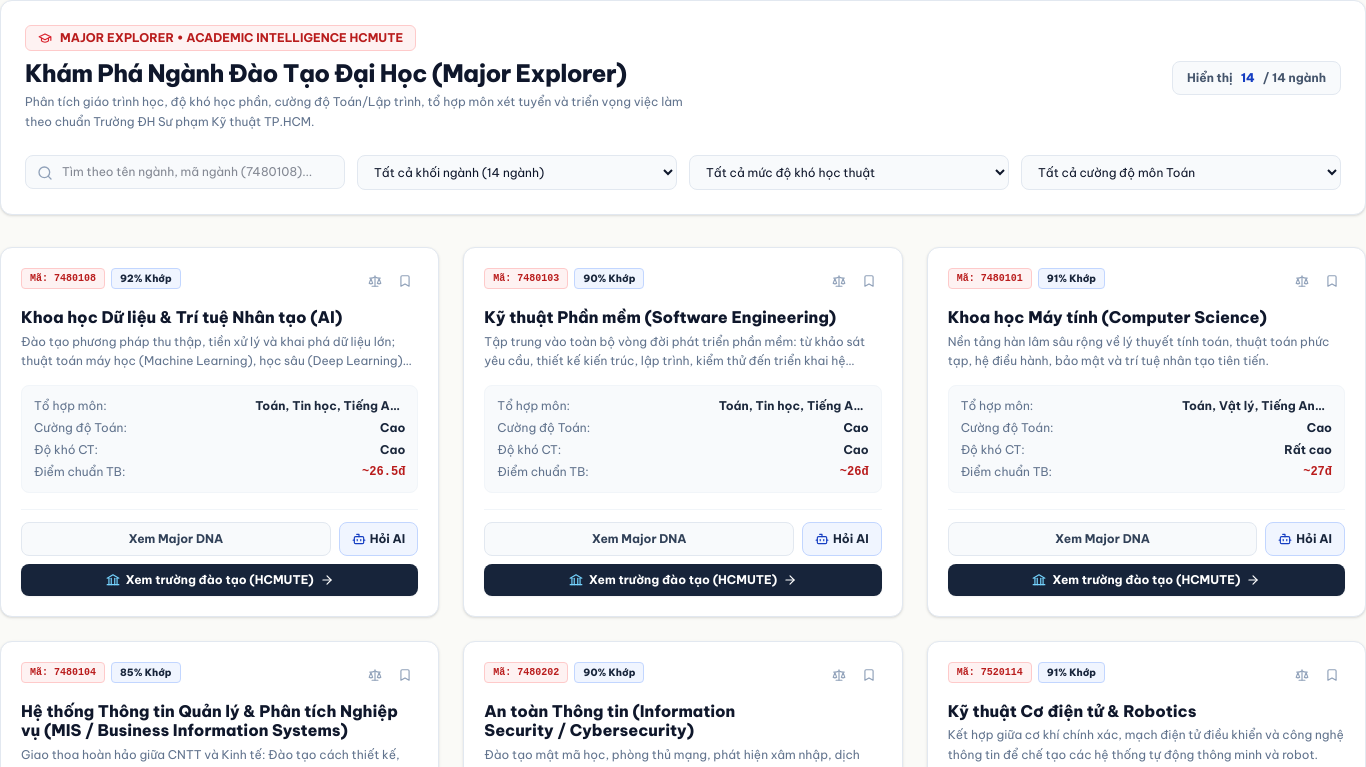
Test: MODULE PROMPT 05 — CAREER & MAJOR EXPLORER › B. MAJOR EXPLORER › 6. Major Detail Modal: renders Major DNA, WHY THIS FITS YOU, and WHAT MAY CHALLENGE YOU
What coordinates should you click on to do the following:
click the button "Xem Major DNA" below "Khoa học Dữ liệu & Trí tuệ Nhân tạo (AI)"
I would click on:
 (176, 539)
Its box is [21, 522, 331, 556].
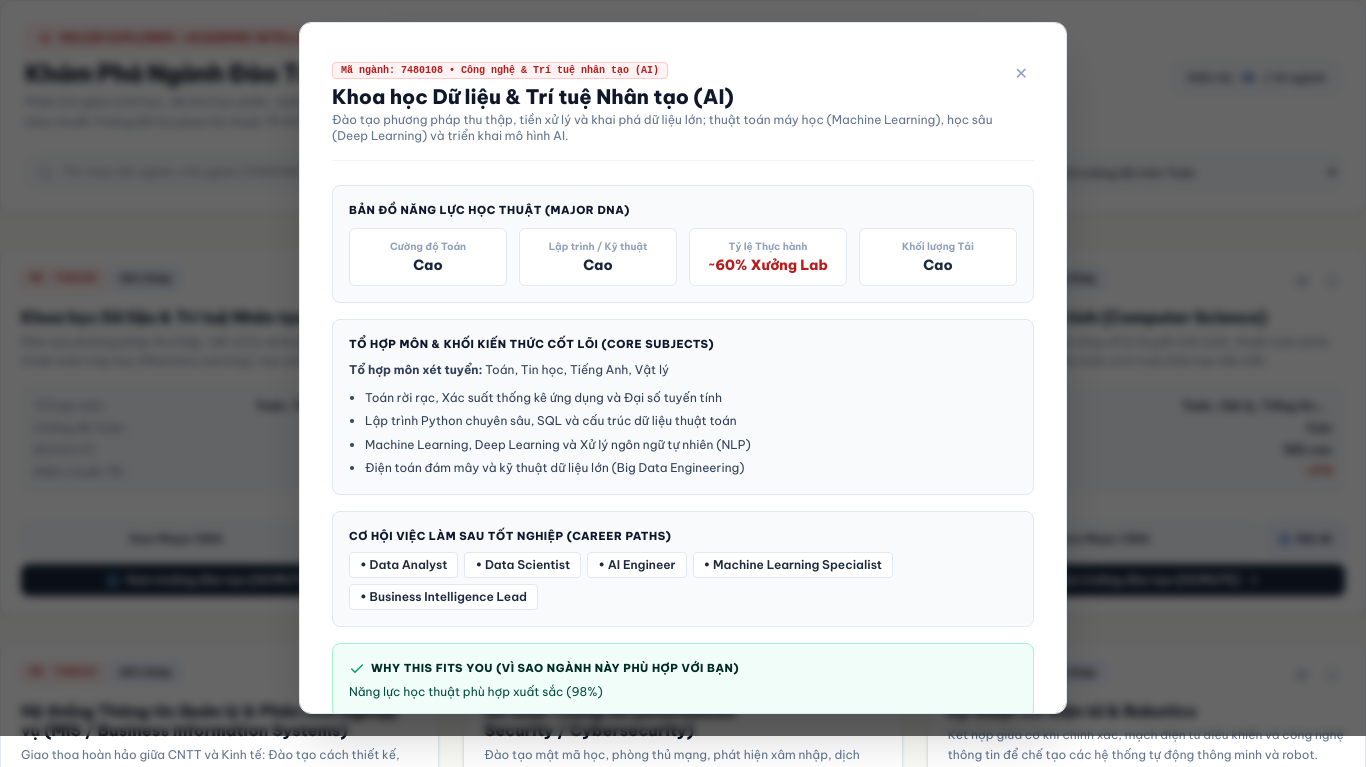
Now the dialog is shown
Now the text "Bản Đồ Năng Lực Học Thuật (Major DNA)" is shown, box [349, 203, 630, 217]
Now the text "Cường độ Toán" is shown, box [390, 240, 466, 253]
Note: Close modal
What coordinates should you click on to do the following:
click the button named "Đóng"
I would click on:
 (1021, 73)
Its box is [1009, 55, 1034, 91].
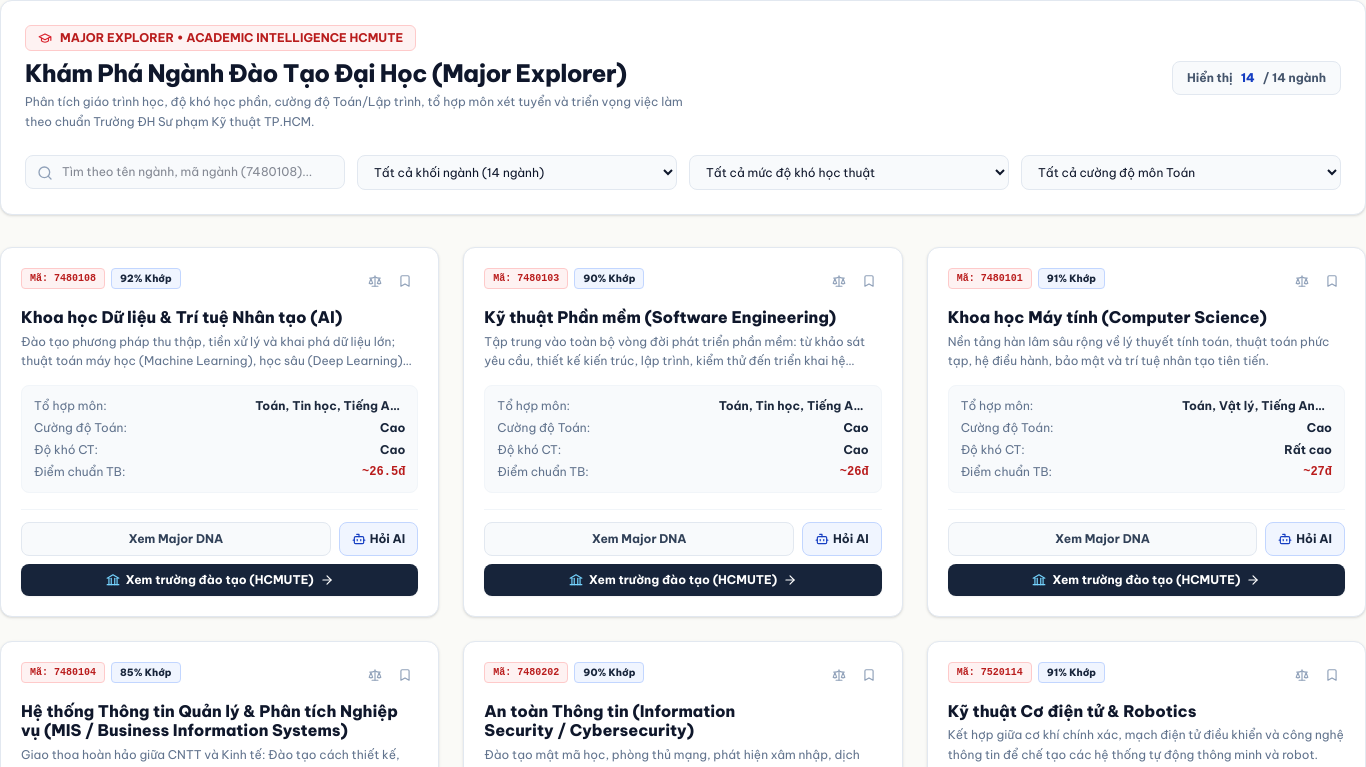
Now the dialog is gone
